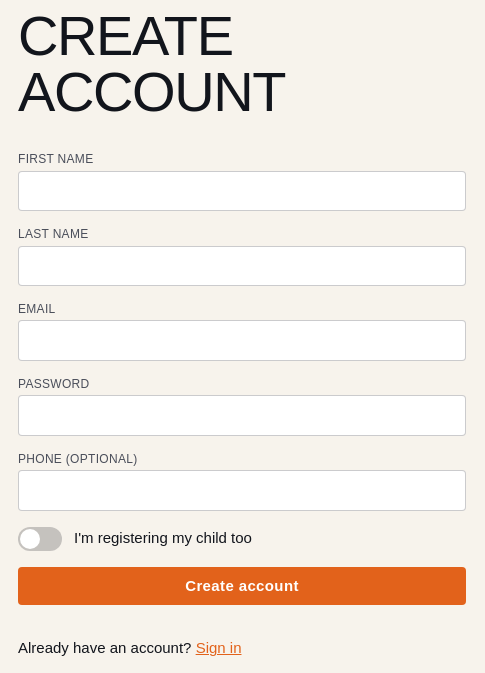
RegisterPage › should show a verify-your-email success message instead of navigating into the app
The image size is (485, 673).
Type "New" into the field labelled "First name" at {"x": 242, "y": 191}, box [18,171,466,211]
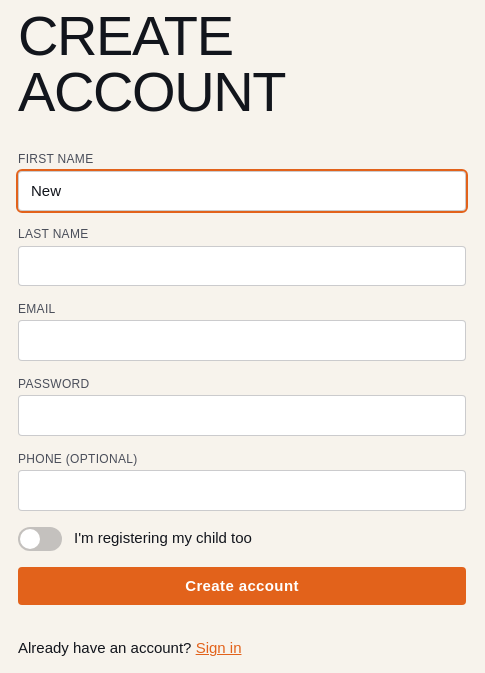
Type "User" into the field labelled "Last name" at {"x": 242, "y": 266}, box [18,246,466,286]
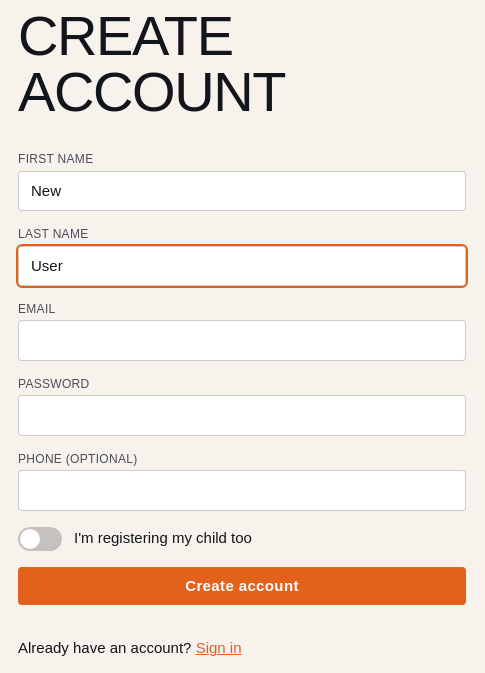
Type "new@x.com" into the field labelled "Email" at {"x": 242, "y": 341}, box [18,320,466,361]
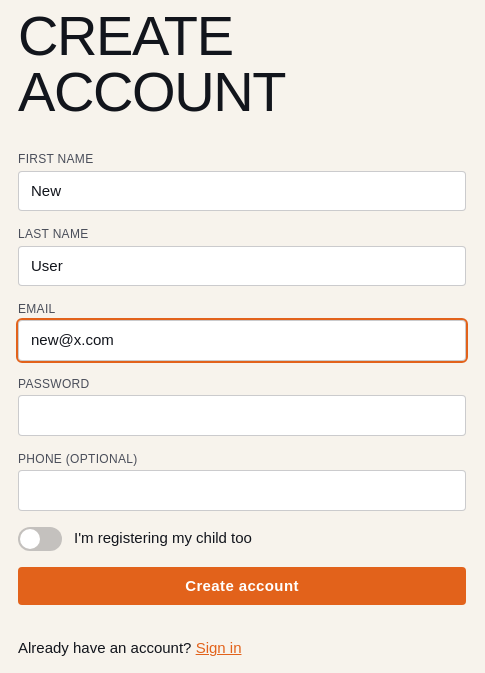
Type "Passw0rd!" into the password field labelled "Password" at {"x": 242, "y": 416}, box [18,395,466,436]
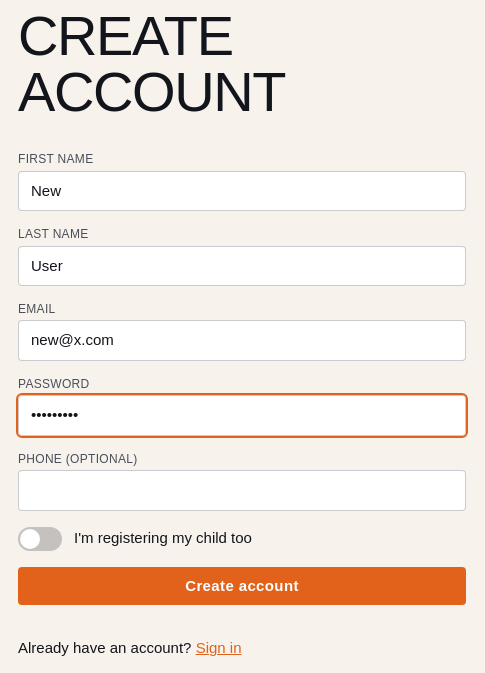
Click the button "Create account" at {"x": 242, "y": 586}, box [18,567,466,605]
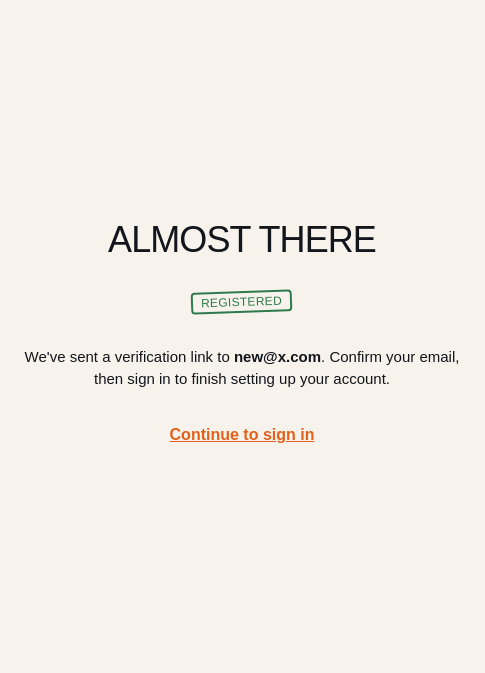
Check: the text "verification link" is shown, box [24,348,234,365]
Check: the text "new@x.com" is shown, box [234,348,321,365]
